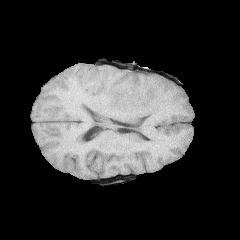glioma: (107, 70, 159, 122)
